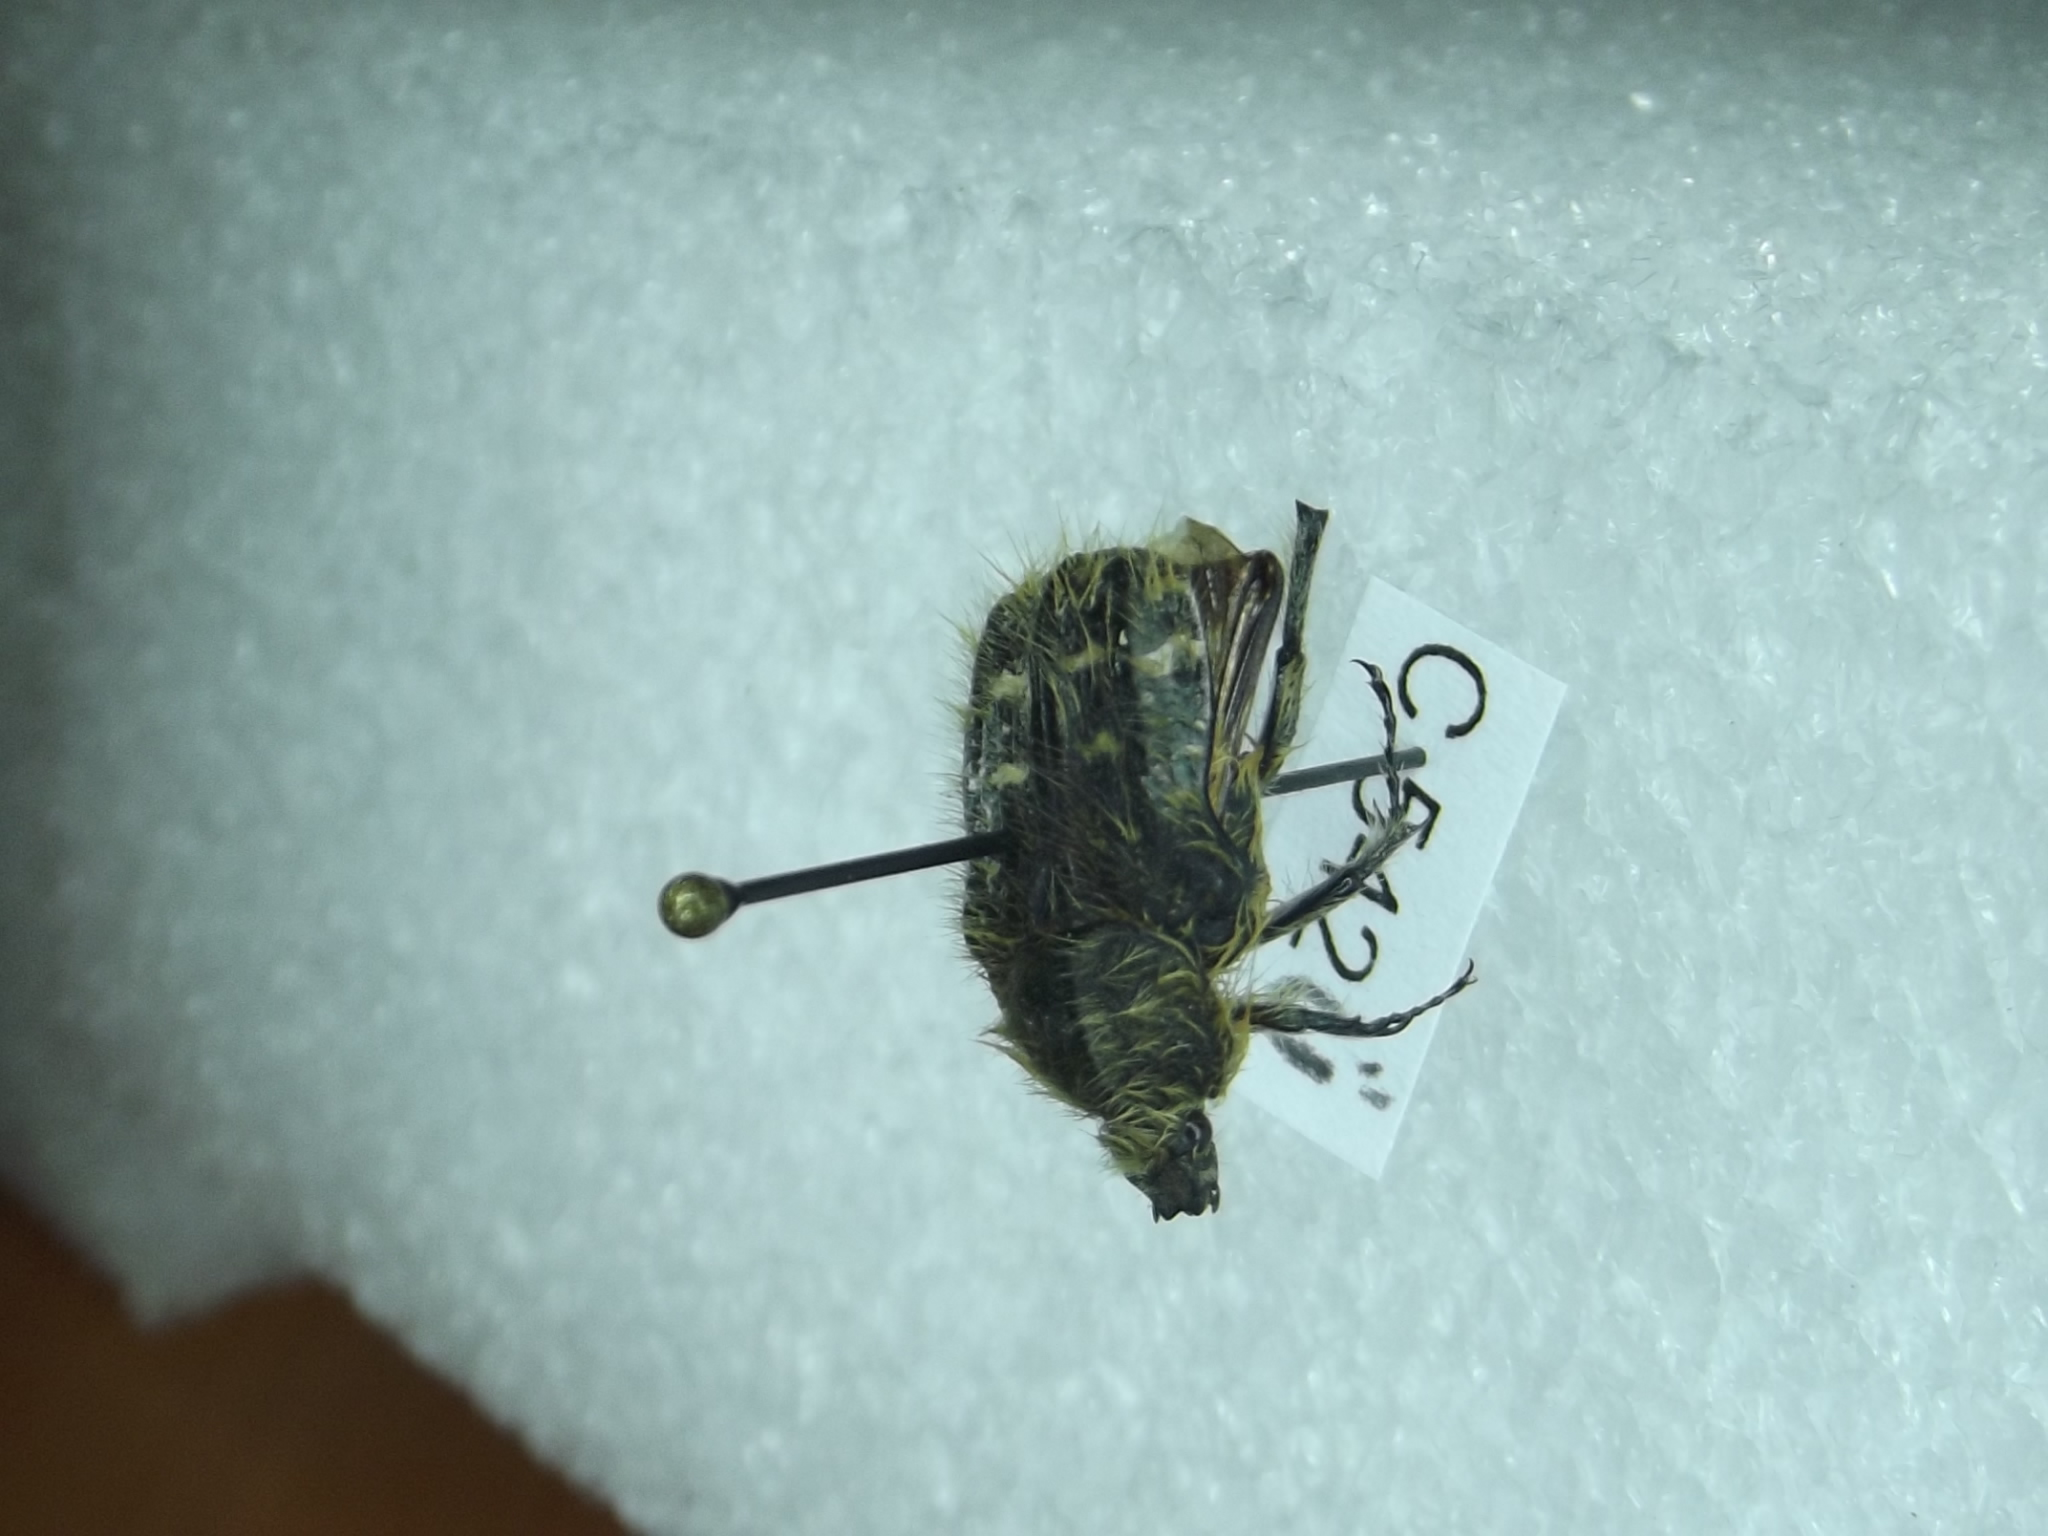Tropinota_hirta: (922, 426, 1492, 1281)
